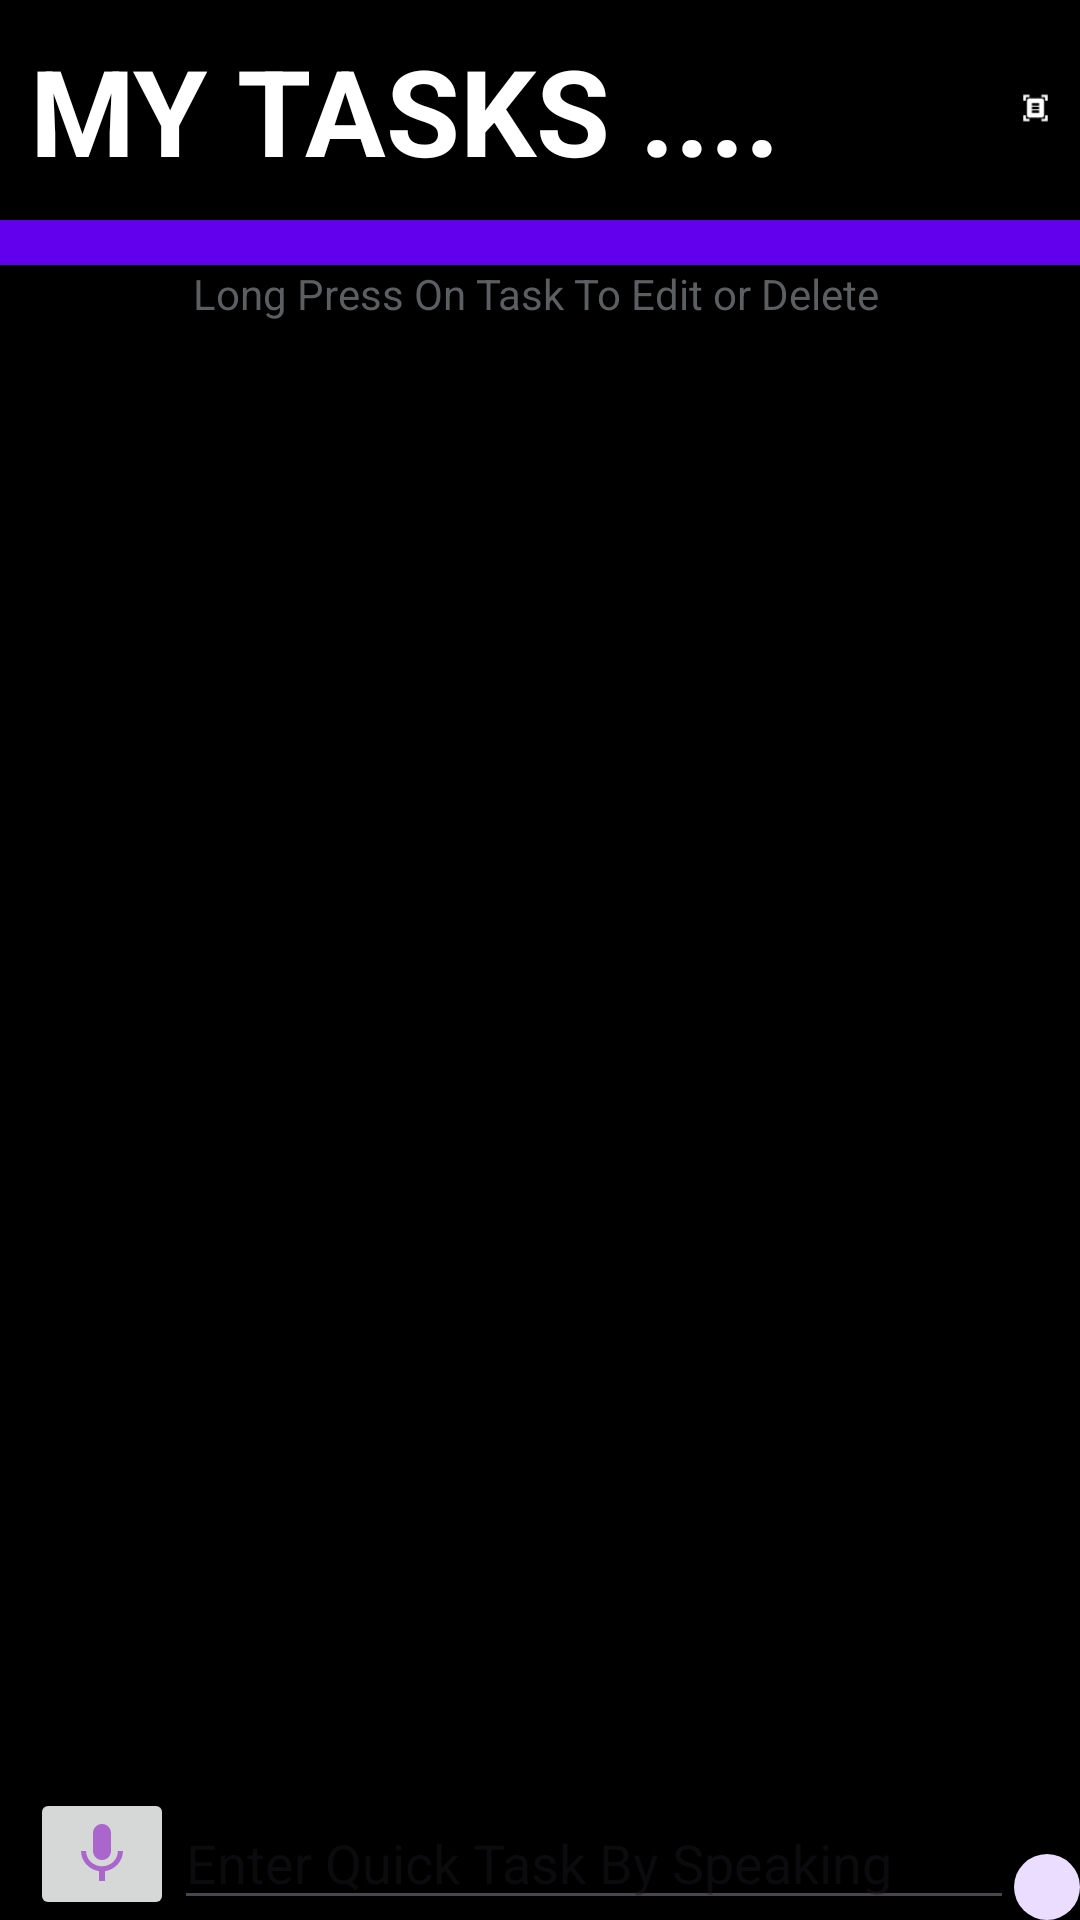

Icons on this 1080x1920 Android screen, each with its box as (x1, y1, x2, y2):
document scanner: (1023, 94, 1048, 122)
mic: (42, 1806, 162, 1902)
